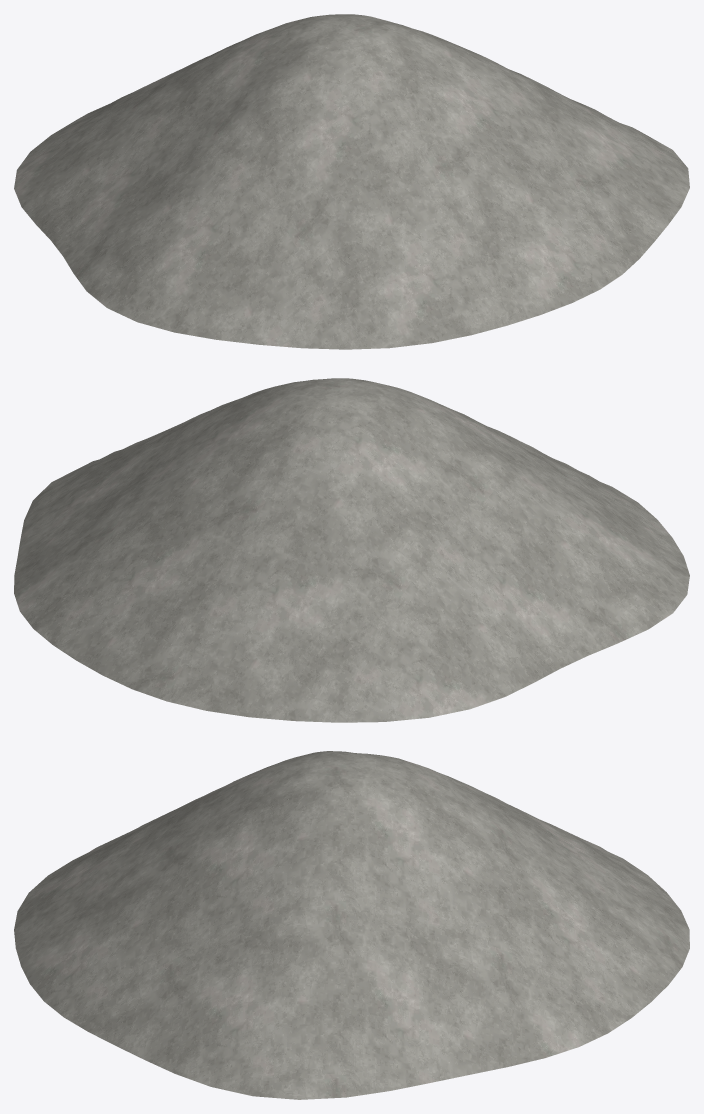
File: ALV-AGR-008_lod1.glb
3 views of the same model, one above another, from view 1: azimuth 30°, elevation 25°; view 2: azimuth 150°, elevation 25°; view 3: azimuth 270°, elevation 25° (orthographic). The views are drawn at different scales.
Parts seen in each view (by area): view 1: ALV-AGR-008_monte; view 2: ALV-AGR-008_monte; view 3: ALV-AGR-008_monte.
Boxes of the visible parts, box(x1,y1,x2,y2) form: ALV-AGR-008_monte: box(14, 14, 689, 349); ALV-AGR-008_monte: box(14, 378, 689, 722); ALV-AGR-008_monte: box(14, 751, 689, 1099).
Size of the model in its own units: 1.04 by 0.3061 by 1.02.
Materials: 1 (1 with a texture image).
